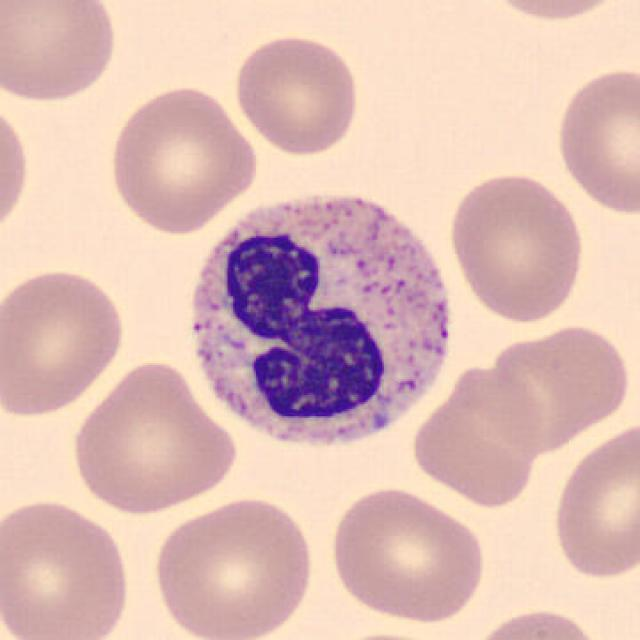Neutrophil: (174, 182, 460, 466)
RBC: (66, 358, 240, 518), (148, 492, 318, 640), (105, 80, 261, 236), (325, 483, 489, 624), (444, 168, 588, 324), (0, 263, 130, 421), (478, 321, 633, 453), (0, 493, 135, 640), (418, 364, 546, 510), (231, 30, 363, 157), (548, 418, 638, 583), (551, 64, 638, 218), (0, 0, 123, 106), (0, 94, 34, 245), (466, 604, 608, 640), (476, 0, 633, 25), (320, 627, 455, 640)
